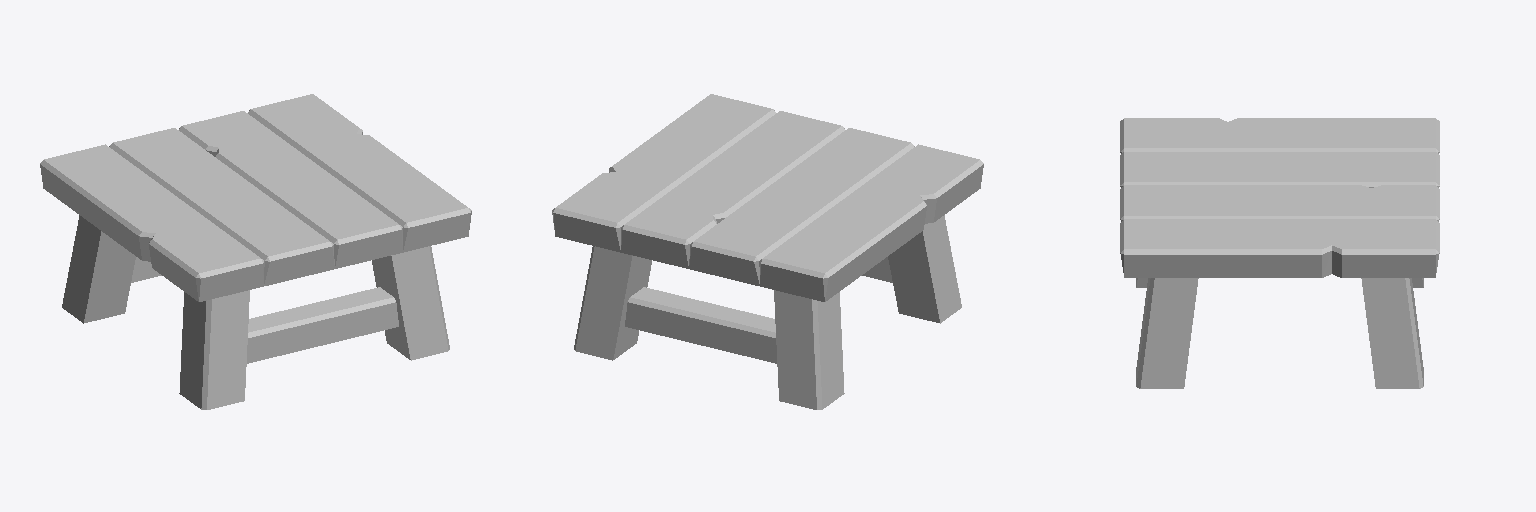
Rendered from table_medium.obj.
3 views of the same model, side by side, from view 1: azimuth 30°, elevation 25°; view 2: azimuth 150°, elevation 25°; view 3: azimuth 270°, elevation 25° (orthographic).
Parts seen in each view (by area): view 1: table_medium_Cube.11255; view 2: table_medium_Cube.11255; view 3: table_medium_Cube.11255.
Boxes of the visible parts, x1=… form: table_medium_Cube.11255: x1=40, y1=94, x2=471, y2=409; table_medium_Cube.11255: x1=552, y1=94, x2=983, y2=409; table_medium_Cube.11255: x1=1120, y1=118, x2=1439, y2=388.
Bounding box in the file's own units: 2 × 1 × 2.